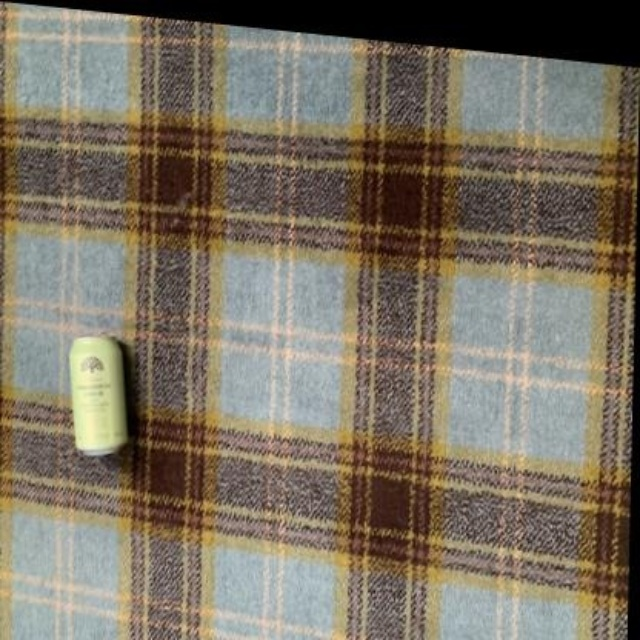trash: (69, 337, 126, 454)
